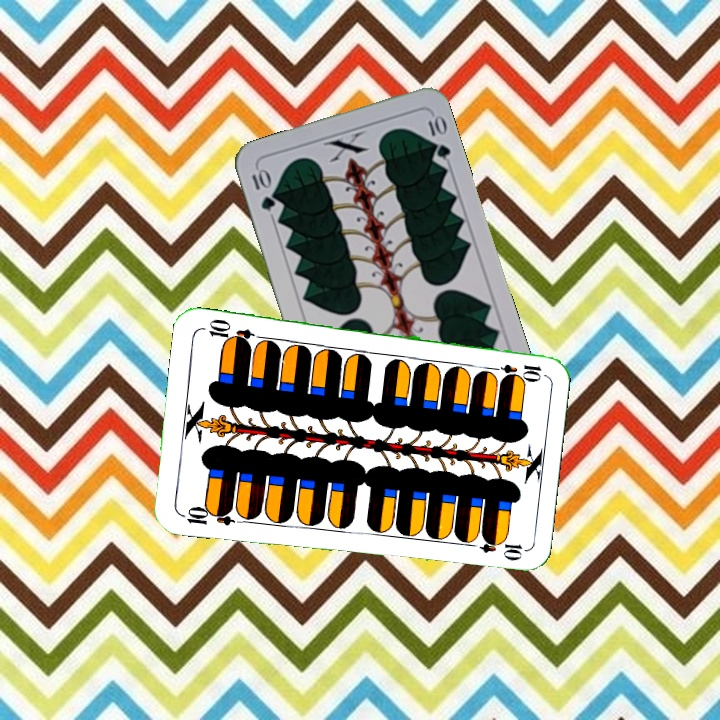E10: (177, 502, 236, 528), (485, 360, 544, 380)
G10: (247, 165, 278, 214)
